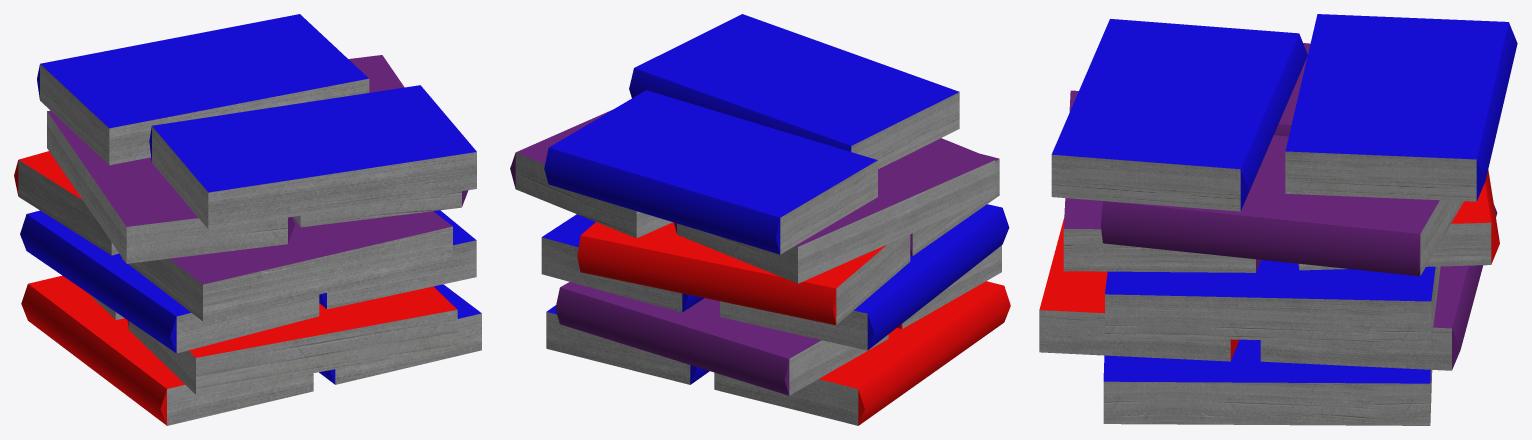
File: Prop_BookStack_Bot.FBX
3 views of the same model, side by side, from view 1: azimuth 30°, elevation 25°; view 2: azimuth 150°, elevation 25°; view 3: azimuth 270°, elevation 25° (orthographic). The views are drawn at different scales.
Visible parts, largest first — view 1: Prop_BookStack_Bot; view 2: Prop_BookStack_Bot; view 3: Prop_BookStack_Bot.
Boxes of the visible parts, x1,y1,x2,y2 form: Prop_BookStack_Bot: [14, 14, 481, 425]; Prop_BookStack_Bot: [510, 14, 1010, 425]; Prop_BookStack_Bot: [1039, 14, 1517, 425].
Bounding box in the file's own units: 32.08 × 18.14 × 30.97.
